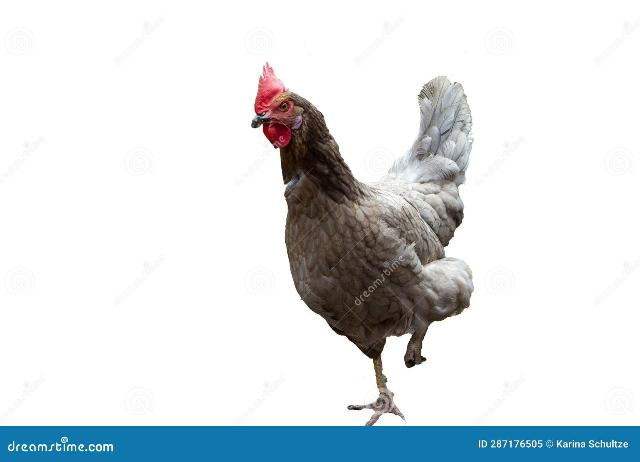Chicken: (253, 62, 475, 429)
